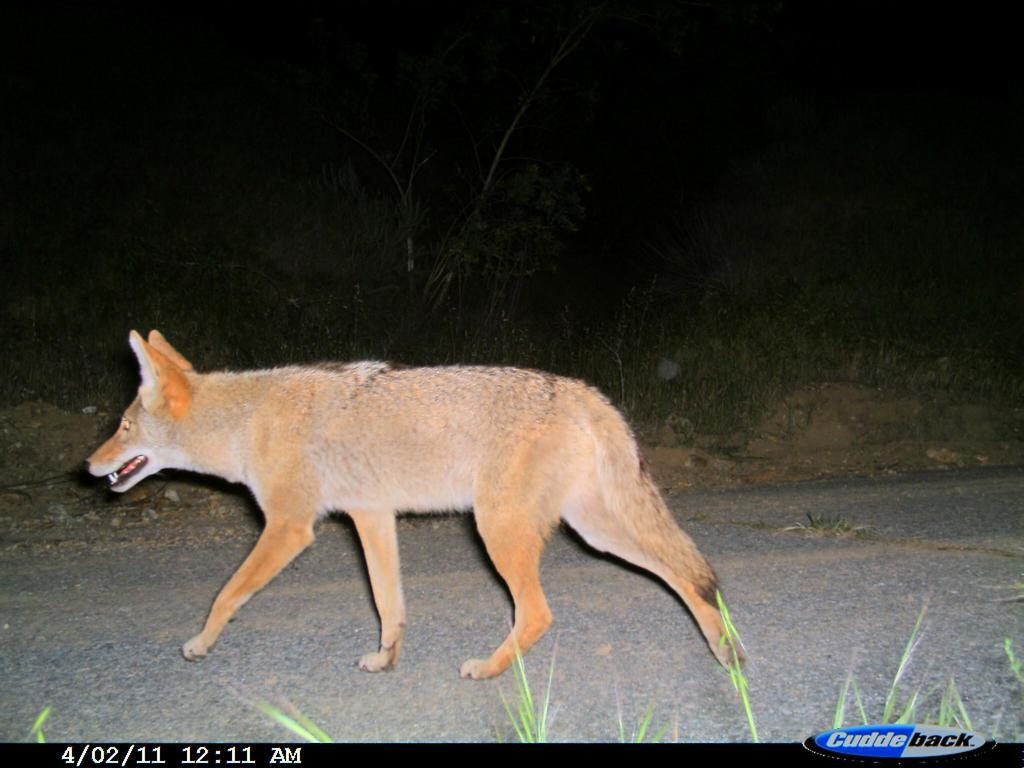coyote: (76, 319, 756, 697)
